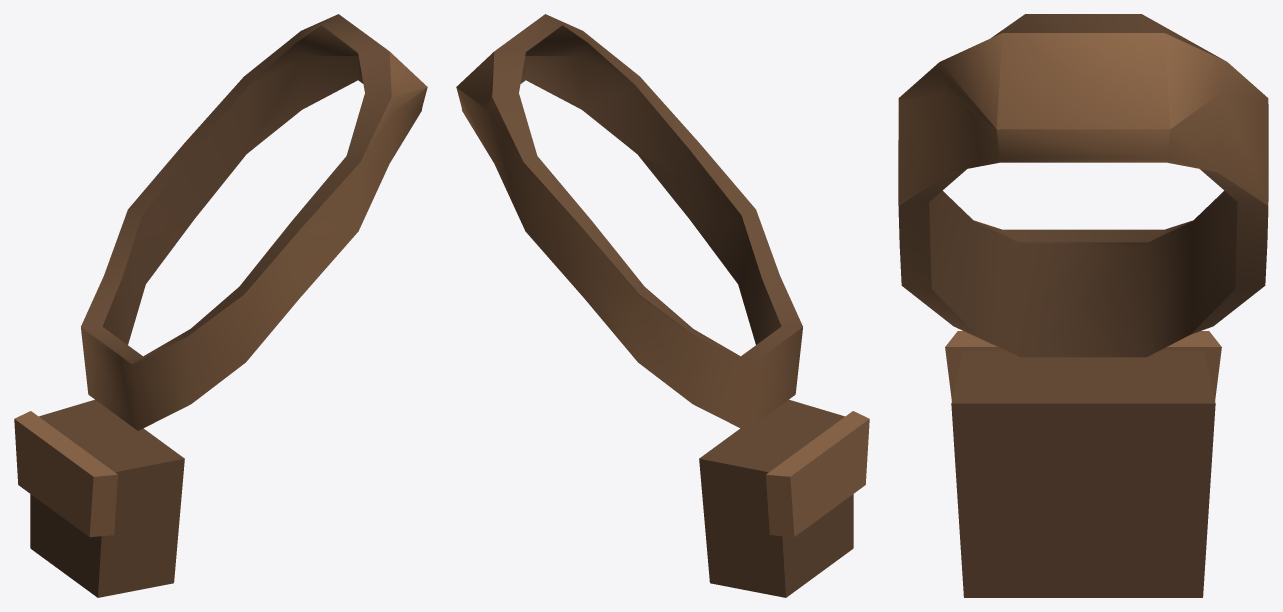
Rendered from person_thin_bandolier.obj.
The picture shows the model from 3 angles, left to right: view 1: azimuth 30°, elevation 25°; view 2: azimuth 150°, elevation 25°; view 3: azimuth 270°, elevation 25°; orthographic projection. The views are drawn at different scales.
Parts seen in each view (by area): view 1: person_thin_bandolier; view 2: person_thin_bandolier; view 3: person_thin_bandolier.
Part boxes in pixels (left/top/right/bottom): person_thin_bandolier: left=14, top=14, right=427, bottom=597; person_thin_bandolier: left=456, top=14, right=869, bottom=597; person_thin_bandolier: left=898, top=14, right=1268, bottom=597.
Bounding box in the file's own units: 0.5042 × 0.65 × 0.2942.
